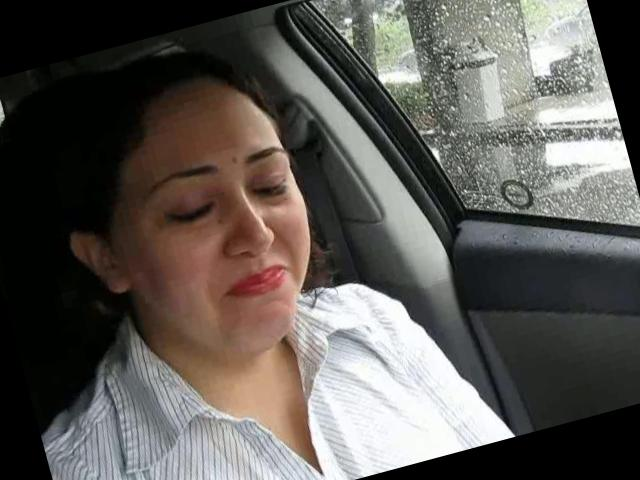eye_closed: (152, 186, 228, 244), (245, 168, 298, 212)
face: (108, 95, 348, 383)
